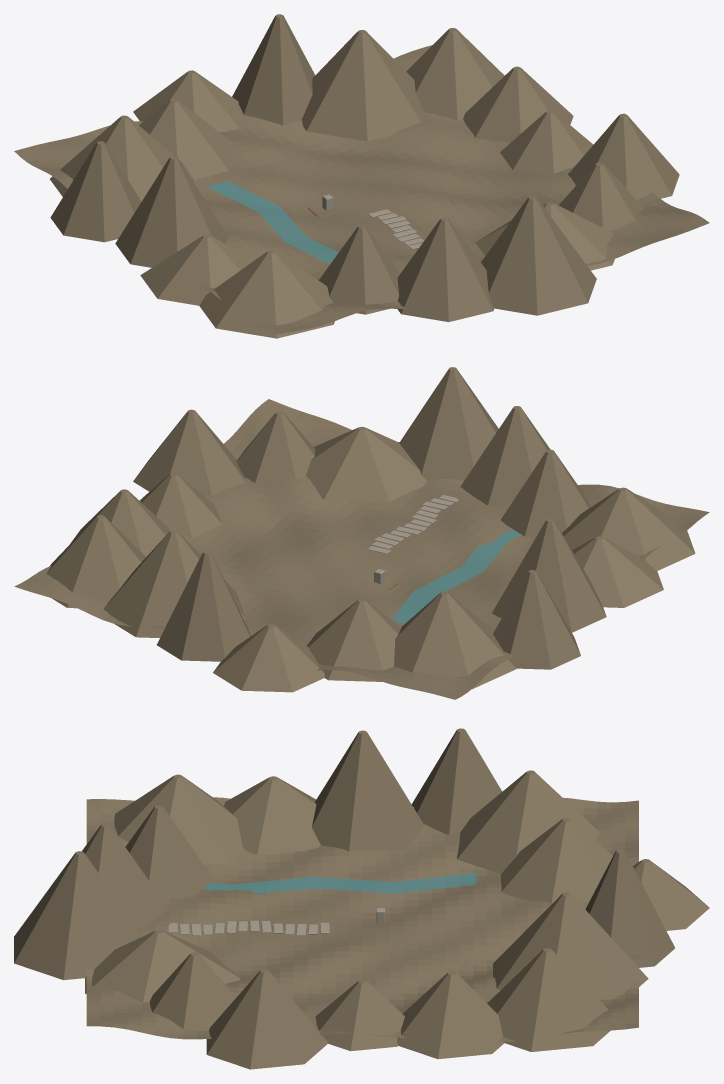
The model's file is valley-intro.glb.
3 renders of one model, top to bottom at view 1: azimuth 30°, elevation 25°; view 2: azimuth 150°, elevation 25°; view 3: azimuth 270°, elevation 25°, orthographic. The views are drawn at different scales.
Visible parts, largest first — view 1: Terrain_Valley, Mountain_03, Mountain_14, Mountain_11, Mountain_13, Mountain_09, Mountain_04, Mountain_08, Mountain_02, Mountain_17, Mountain_10, Mountain_01 (+8 smaller); view 2: Terrain_Valley, Mountain_14, Mountain_07, Mountain_15, Mountain_04, Mountain_03, Mountain_11, Mountain_08, Mountain_09, Mountain_17, Mountain_02, Mountain_06 (+8 smaller); view 3: Terrain_Valley, Mountain_14, Mountain_09, Mountain_02, Mountain_17, Mountain_03, Mountain_07, Mountain_01, Mountain_06, Mountain_11, Mountain_04, Mountain_08 (+8 smaller).
Boxes of the visible parts, x1=… form: Terrain_Valley: x1=14, y1=45, x2=709, y2=336; Mountain_03: x1=302, y1=30, x2=424, y2=141; Mountain_14: x1=481, y1=196, x2=596, y2=315; Mountain_11: x1=199, y1=250, x2=334, y2=338; Mountain_13: x1=397, y1=217, x2=494, y2=321; Mountain_09: x1=115, y1=156, x2=228, y2=267; Mountain_04: x1=232, y1=14, x2=315, y2=125; Mountain_08: x1=50, y1=141, x2=141, y2=242; Mountain_02: x1=406, y1=28, x2=504, y2=120; Mountain_17: x1=568, y1=113, x2=679, y2=199; Mountain_10: x1=140, y1=234, x2=253, y2=305; Mountain_01: x1=463, y1=66, x2=573, y2=142; Terrain_Valley: x1=14, y1=399, x2=709, y2=699; Mountain_14: x1=399, y1=367, x2=498, y2=480; Mountain_07: x1=394, y1=591, x2=516, y2=689; Mountain_15: x1=306, y1=426, x2=426, y2=501; Mountain_04: x1=157, y1=550, x2=250, y2=661; Mountain_03: x1=103, y1=530, x2=245, y2=637; Mountain_11: x1=562, y1=487, x2=695, y2=570; Mountain_08: x1=493, y1=570, x2=580, y2=669; Mountain_09: x1=492, y1=518, x2=606, y2=632; Mountain_17: x1=133, y1=409, x2=245, y2=496; Mountain_02: x1=46, y1=515, x2=145, y2=608; Mountain_06: x1=307, y1=599, x2=401, y2=681; Terrain_Valley: x1=86, y1=797, x2=638, y2=1041; Mountain_14: x1=14, y1=851, x2=142, y2=980; Mountain_09: x1=312, y1=730, x2=424, y2=851; Mountain_02: x1=487, y1=948, x2=610, y2=1051; Mountain_17: x1=206, y1=969, x2=327, y2=1069; Mountain_03: x1=493, y1=892, x2=648, y2=999; Mountain_07: x1=457, y1=770, x2=600, y2=873; Mountain_01: x1=397, y1=971, x2=504, y2=1059; Mountain_06: x1=501, y1=818, x2=612, y2=903; Mountain_11: x1=114, y1=774, x2=242, y2=865; Mountain_04: x1=585, y1=849, x2=674, y2=967; Mountain_08: x1=411, y1=728, x2=502, y2=834.
Bounding box in the file's own units: 40.43 × 10.56 × 42.87.
